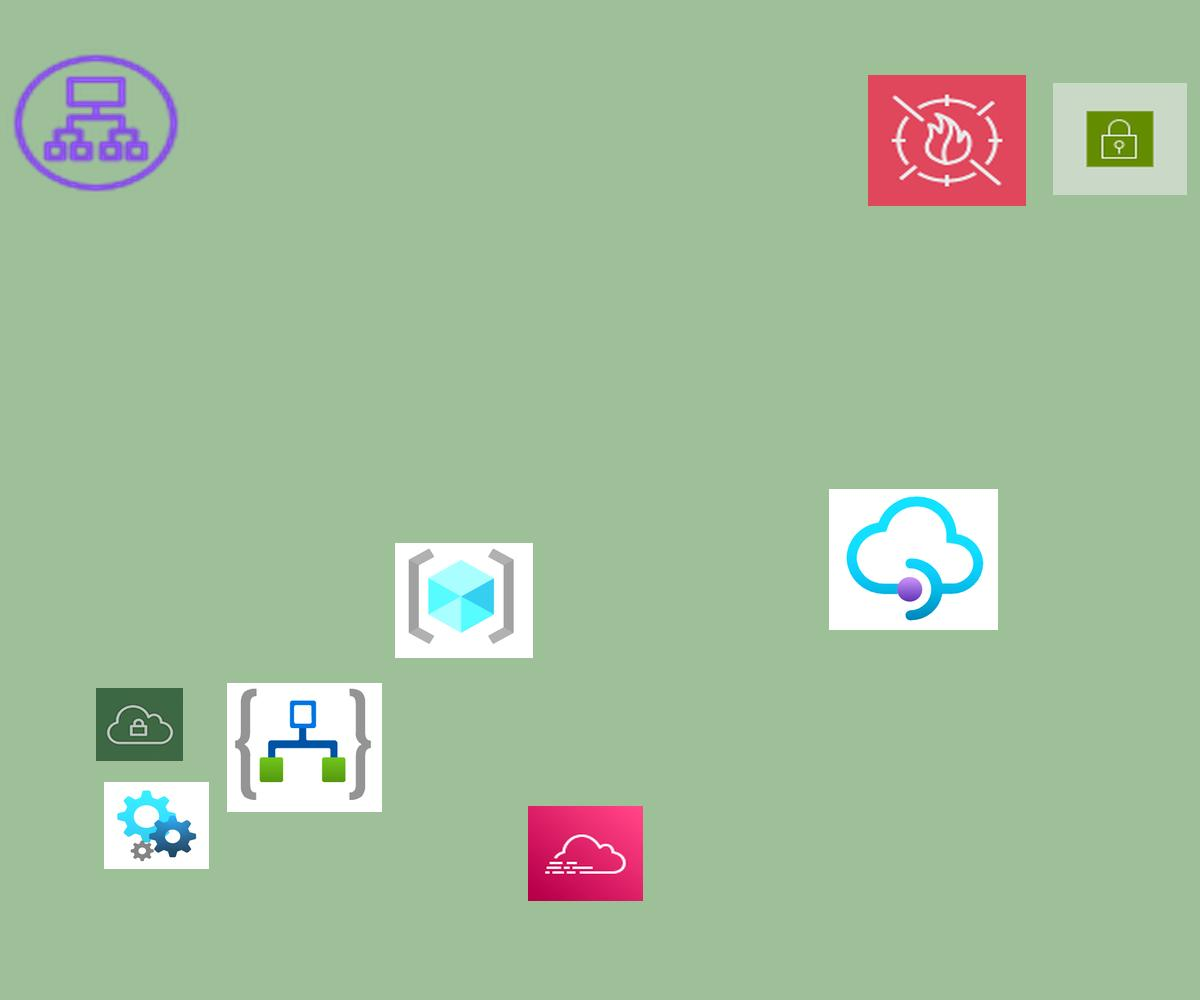AWS-CloudTrail: (528, 806, 643, 901)
AWS-Private_vpc: (96, 688, 183, 761)
AWS-Public-subnet: (1053, 83, 1187, 195)
AWS-Res_Elastic-Load-Balancing_Application-Load-Balancer: (7, 49, 185, 197)
AWS-WAF: (868, 75, 1026, 206)
Azure_api: (104, 782, 209, 869)
Azure_api_gateway: (829, 489, 998, 630)
Azure_integration-204-Logic-Apps: (227, 683, 382, 812)
Azure_resource_group: (395, 543, 533, 658)
